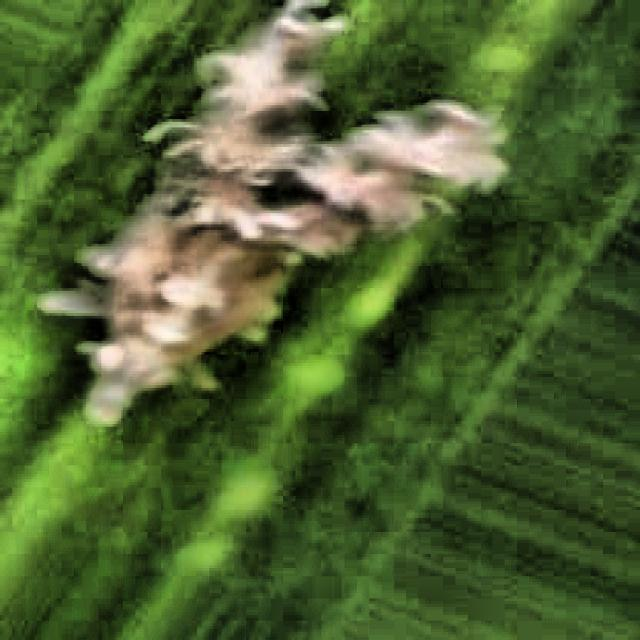Pyrilla-perpusilla: (46, 0, 540, 585)
